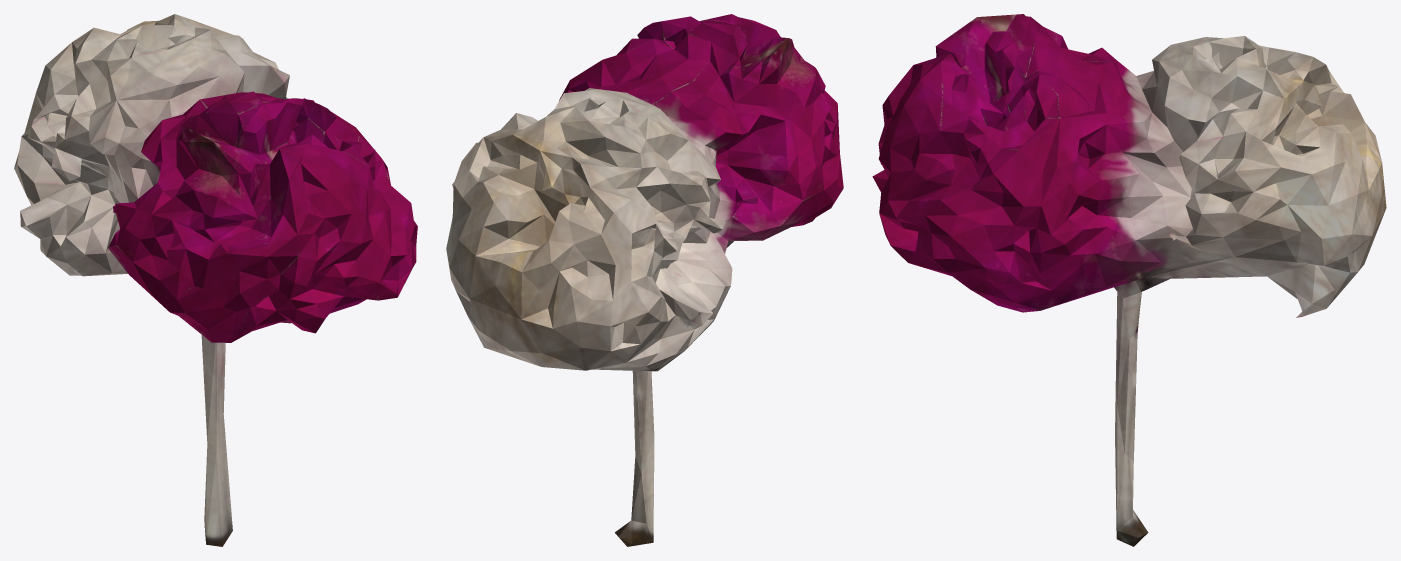
Rendered from ACC55BCB-8DDE-F742-817D-7717B2E7A5CD_512.glb.
3 renders of one model, left to right at view 1: azimuth 30°, elevation 25°; view 2: azimuth 150°, elevation 25°; view 3: azimuth 270°, elevation 25°, orthographic. The views are drawn at different scales.
Visible parts, largest first — view 1: Pfingstrosen Mutmacher_2k_0.5k; view 2: Pfingstrosen Mutmacher_2k_0.5k; view 3: Pfingstrosen Mutmacher_2k_0.5k.
Part boxes in pixels (x1=…): Pfingstrosen Mutmacher_2k_0.5k: x1=14, y1=14, x2=417, y2=546; Pfingstrosen Mutmacher_2k_0.5k: x1=446, y1=14, x2=843, y2=546; Pfingstrosen Mutmacher_2k_0.5k: x1=872, y1=14, x2=1386, y2=546.
Bounding box in the file's own units: 0.0553 × 0.0999 × 0.0921.
Materials: 1 (1 with a texture image).
